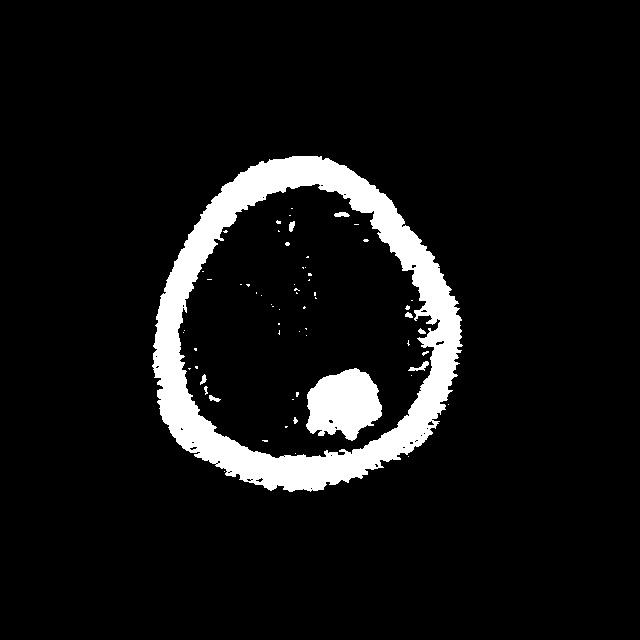Brain-Tumor: (299, 359, 392, 447)
